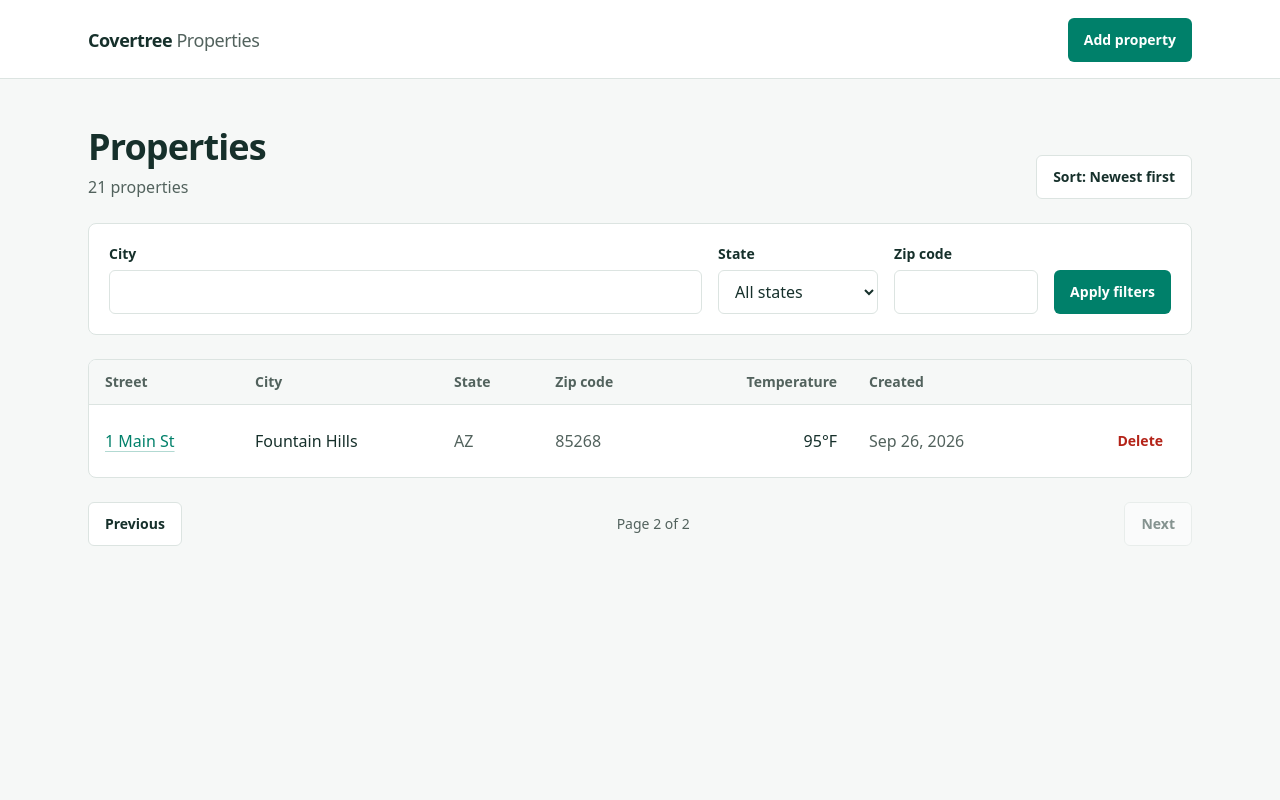
Scenario: PropertyListPage › AC-W.2/W.3: applying a city filter updates the URL and the query, and resets the page
Expected: the text "Page 2 of 2" is shown, [617,514,690,534]
Step 1. Type "  fountain   hills " into the field labelled "City" → x=406, y=292, box [109,270,702,314]
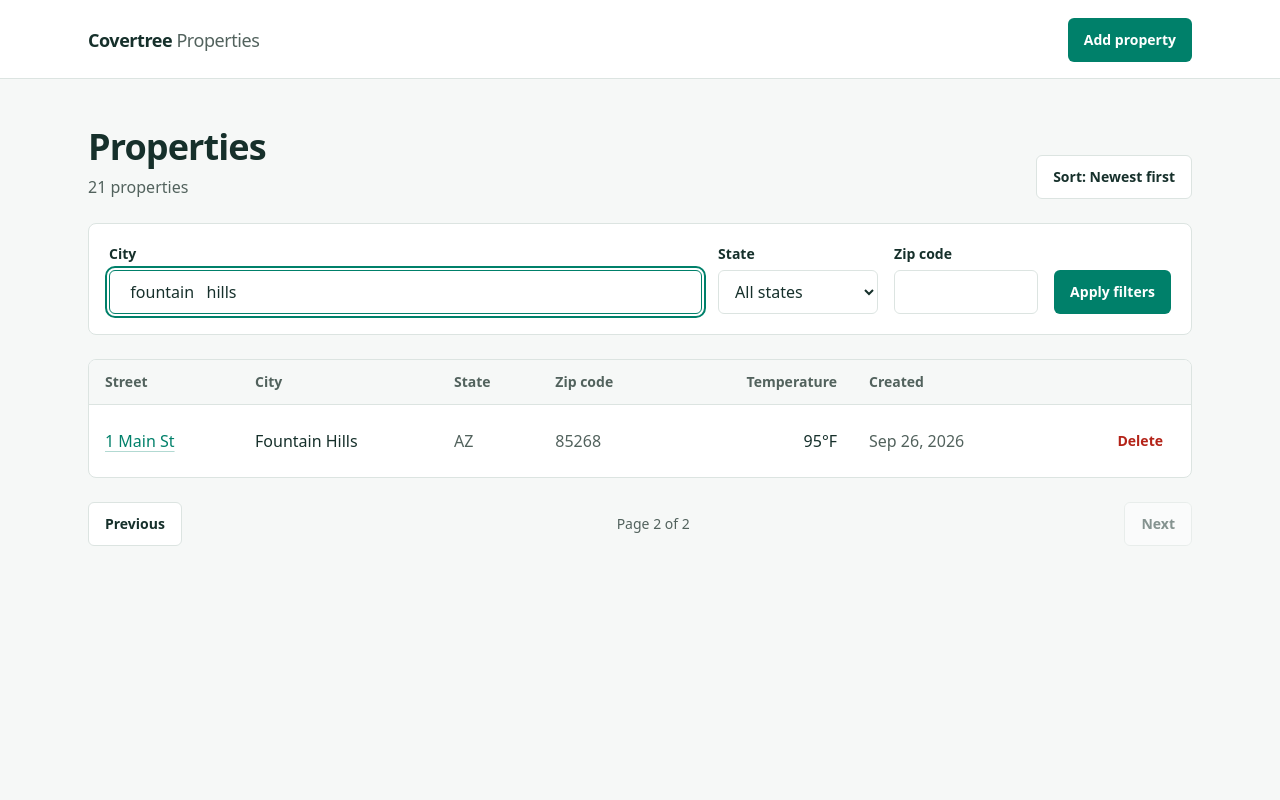
Step 2. Click the button "Apply filters" → x=1113, y=292, box [1054,270,1171,314]
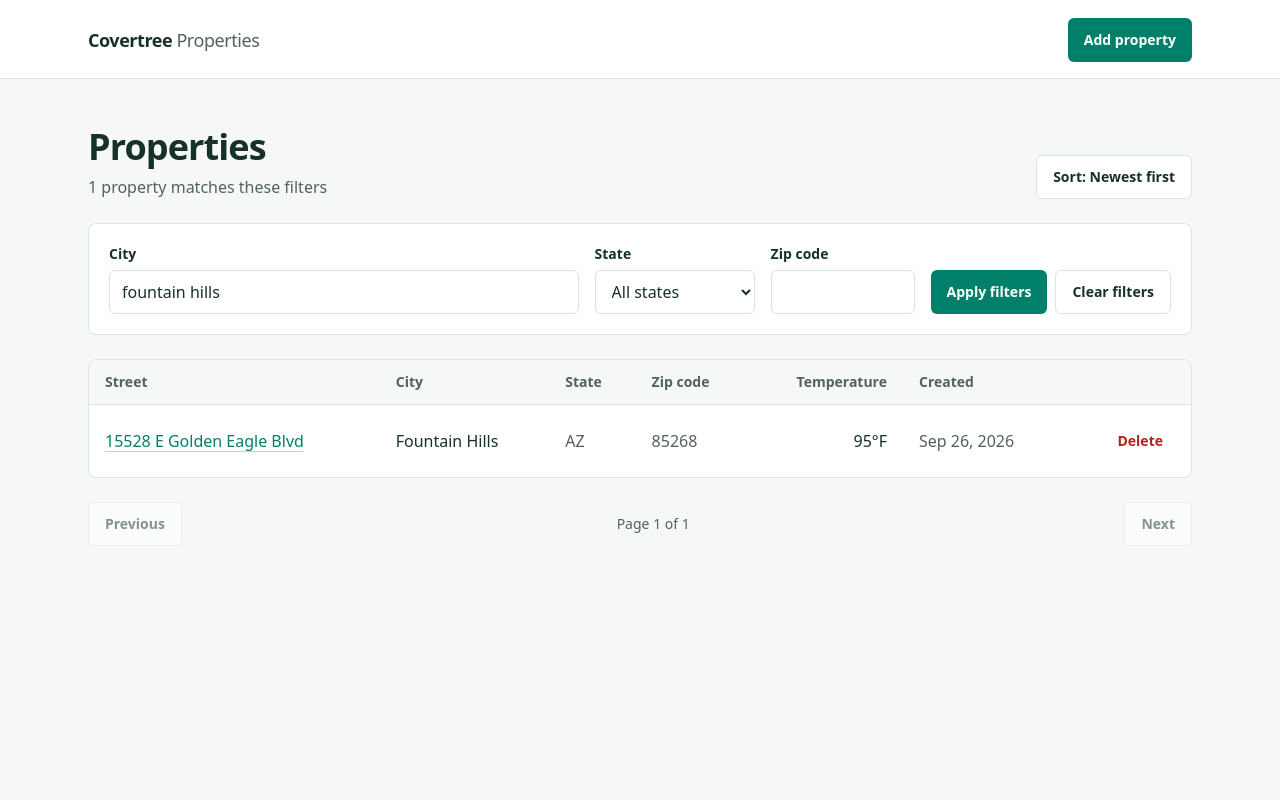
Expected: the link "15528 E Golden Eagle Blvd" is shown, [105,430,304,452]
Expected: the text "Page 1 of 1" is shown, [617,514,690,534]
